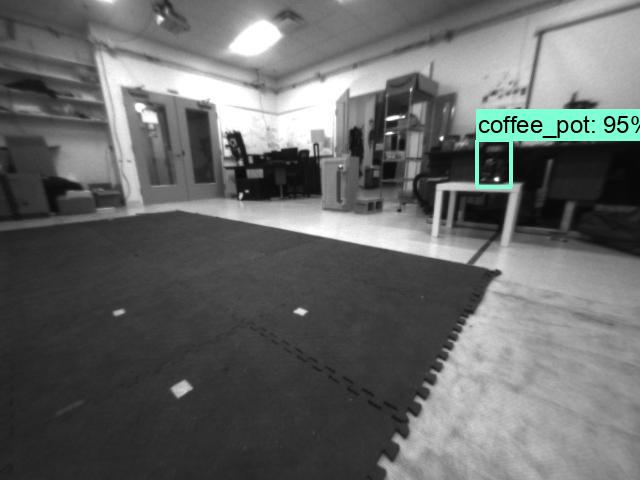coffee_pot: (475, 140, 509, 187)
